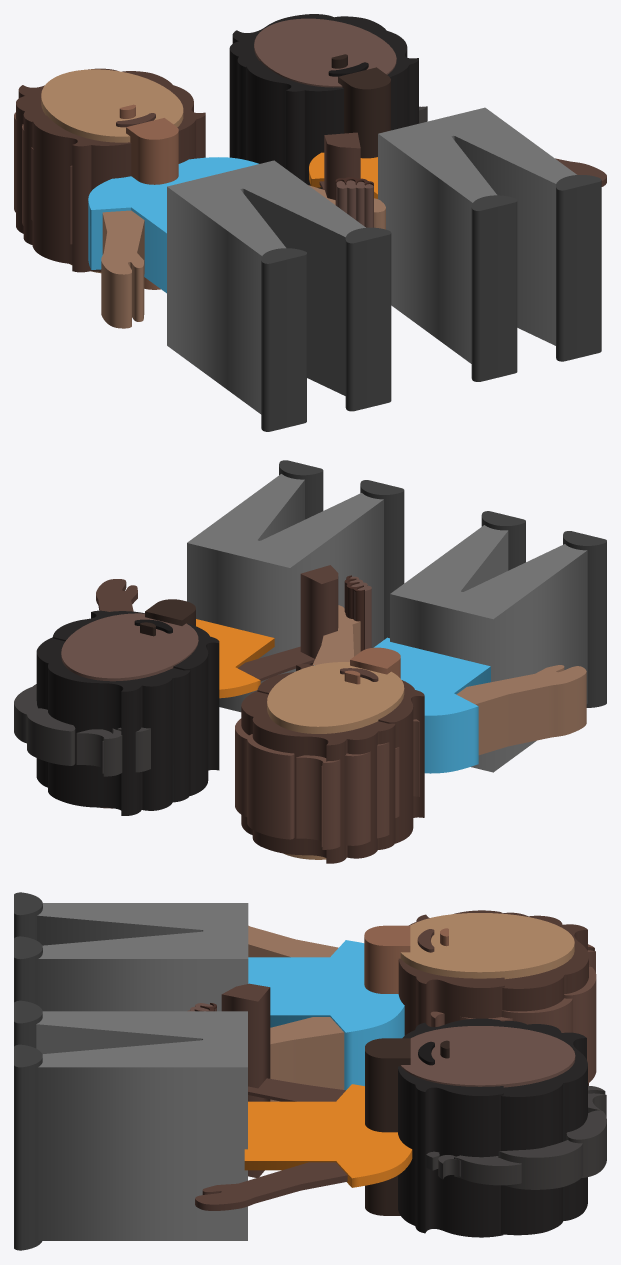
The model's file is emoji_u1f9d1_1f3fd_200d_1f91d_200d_1f9d1_1f3ff.glb.
3 views of the same model, one above another, from view 1: azimuth 30°, elevation 25°; view 2: azimuth 150°, elevation 25°; view 3: azimuth 270°, elevation 25° (orthographic). The views are drawn at different scales.
Visible parts, largest first — view 1: emoji_u1f9d1_1f3fd_200d_1f91d_200d_1f9d1_1f3ff; view 2: emoji_u1f9d1_1f3fd_200d_1f91d_200d_1f9d1_1f3ff; view 3: emoji_u1f9d1_1f3fd_200d_1f91d_200d_1f9d1_1f3ff.
Part boxes in pixels (x1=…): emoji_u1f9d1_1f3fd_200d_1f91d_200d_1f9d1_1f3ff: x1=14, y1=14, x2=606, y2=431; emoji_u1f9d1_1f3fd_200d_1f91d_200d_1f9d1_1f3ff: x1=14, y1=460, x2=606, y2=863; emoji_u1f9d1_1f3fd_200d_1f91d_200d_1f9d1_1f3ff: x1=14, y1=892, x2=606, y2=1250.
Size of the model in its own units: 0.0346 by 0.0114 by 0.0335.
